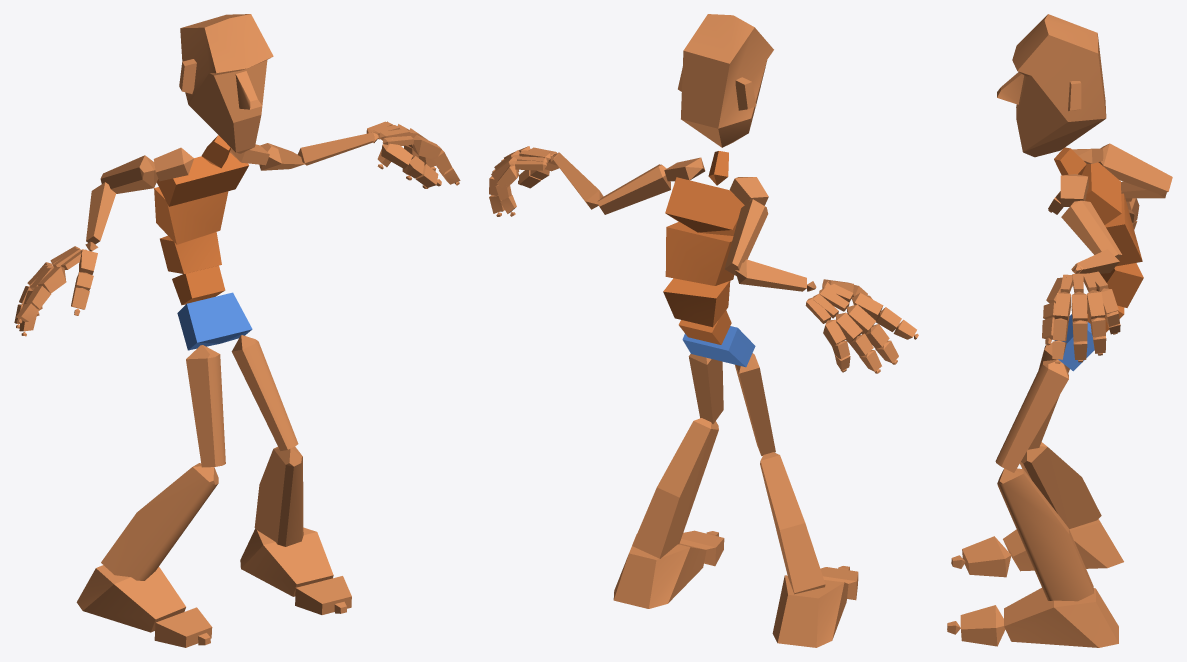
The model's file is personaje325.obj.
3 views of the same model, side by side, from view 1: azimuth 30°, elevation 25°; view 2: azimuth 150°, elevation 25°; view 3: azimuth 270°, elevation 25° (orthographic).
Visible parts, largest first — view 1: BOPED_Head, BOPED_R_leg, BOPED_R_foot, BOPED_L_leg, BOPED_R_foot01, BOPED_R_legup, BOPED_L_legup, Bone01, Bone04, Bone05, Bone03, BOPED_R_foot_toe01 (+7 smaller); view 2: BOPED_Head, BOPED_L_leg, BOPED_R_leg, BOPED_R_foot01, BOPED_R_foot, Bone04, Bone05, Bone03, BOPED_R_legup, BOPED_L_legup, BOPED_L_arm_upper, BOPED_R_arm_upper (+8 smaller); view 3: BOPED_Head, BOPED_L_leg, BOPED_R_foot01, BOPED_R_leg, BOPED_L_legup, BOPED_R_foot, BOPED_R_arm_upper, BOPED_L_arm_upper, Bone05, BOPED_R_foot_toe01, BOPED_R_foot_toe04, Bone04 (+11 smaller).
Part boxes in pixels (bbox=[...]): BOPED_Head: bbox=[179, 14, 273, 153]; BOPED_R_leg: bbox=[101, 463, 218, 580]; BOPED_R_foot: bbox=[76, 565, 185, 632]; BOPED_L_leg: bbox=[254, 446, 303, 546]; BOPED_R_foot01: bbox=[240, 527, 333, 596]; BOPED_R_legup: bbox=[186, 345, 225, 467]; BOPED_L_legup: bbox=[231, 335, 298, 450]; Bone01: bbox=[177, 292, 252, 350]; Bone04: bbox=[154, 187, 228, 244]; Bone05: bbox=[157, 152, 248, 206]; Bone03: bbox=[160, 232, 221, 273]; BOPED_R_foot_toe01: bbox=[154, 607, 212, 647]; BOPED_Head: bbox=[678, 14, 773, 147]; BOPED_L_leg: bbox=[632, 418, 718, 558]; BOPED_R_leg: bbox=[760, 452, 825, 594]; BOPED_R_foot01: bbox=[613, 534, 706, 608]; BOPED_R_foot: bbox=[772, 575, 848, 647]; Bone04: bbox=[665, 222, 734, 285]; Bone05: bbox=[665, 177, 744, 235]; Bone03: bbox=[663, 278, 730, 327]; BOPED_R_legup: bbox=[735, 353, 775, 455]; BOPED_L_legup: bbox=[688, 354, 723, 423]; BOPED_L_arm_upper: bbox=[597, 164, 670, 214]; BOPED_R_arm_upper: bbox=[724, 199, 768, 275]; BOPED_Head: bbox=[997, 14, 1106, 157]; BOPED_L_leg: bbox=[997, 468, 1093, 601]; BOPED_R_foot01: bbox=[1004, 588, 1118, 647]; BOPED_R_leg: bbox=[1020, 442, 1101, 528]; BOPED_L_legup: bbox=[995, 359, 1068, 472]; BOPED_R_foot: bbox=[1003, 519, 1123, 571]; BOPED_R_arm_upper: bbox=[1098, 143, 1172, 194]; BOPED_L_arm_upper: bbox=[1061, 200, 1121, 259]; Bone05: bbox=[1082, 162, 1121, 224]; BOPED_R_foot_toe01: bbox=[962, 536, 1011, 577]; BOPED_R_foot_toe04: bbox=[960, 605, 1005, 646]; Bone04: bbox=[1105, 193, 1142, 266].
Size of the model in its own units: 145 by 185 by 64.8.
